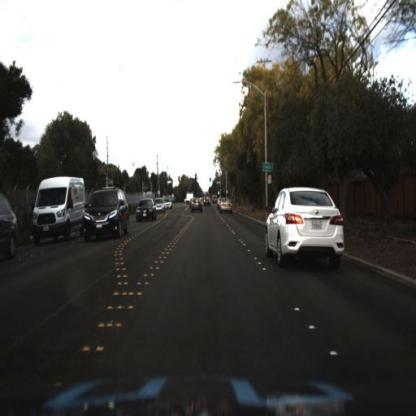car: (263, 185, 347, 273), (31, 176, 88, 245), (82, 182, 133, 242), (61, 193, 103, 243), (2, 190, 23, 261), (135, 197, 160, 227), (220, 198, 237, 218), (190, 198, 205, 219), (154, 195, 167, 217), (165, 200, 176, 215)
truck: (186, 189, 196, 208)
